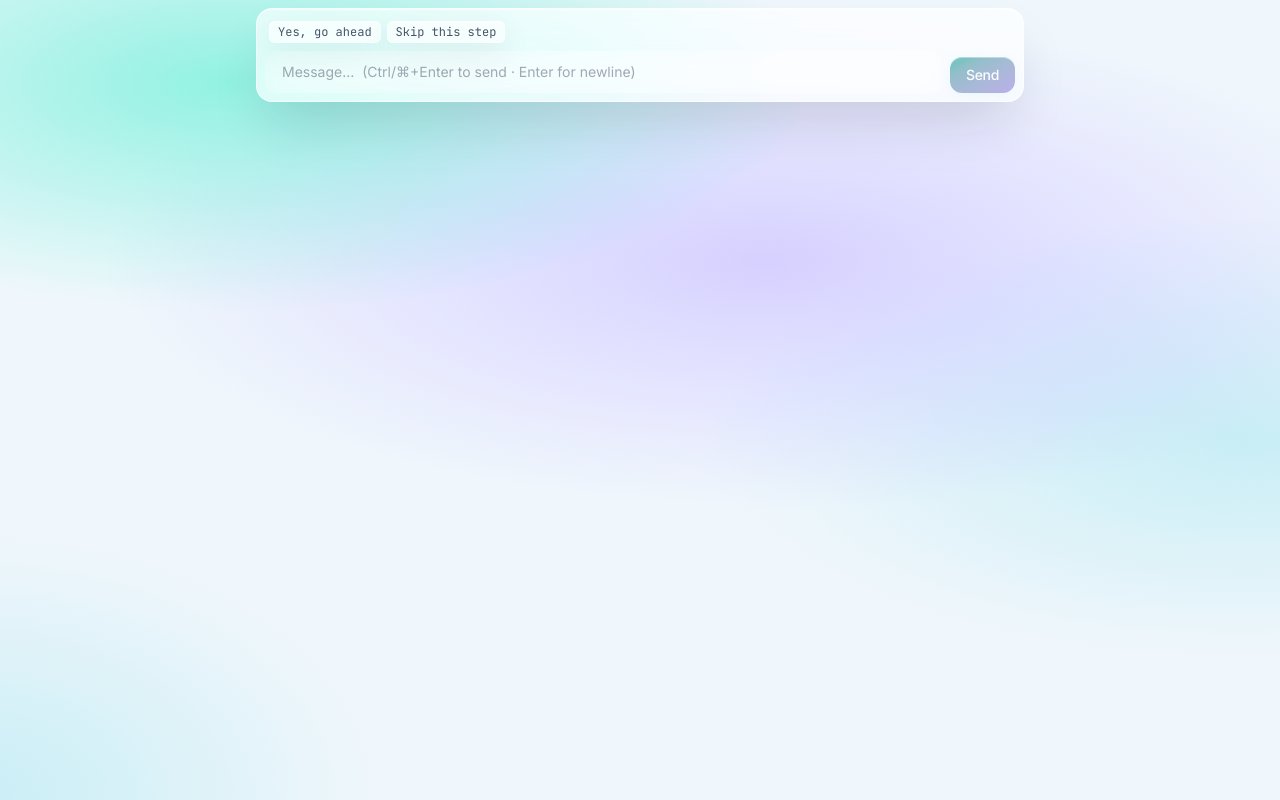
ChatInput › suggested replies › clicking a chip drafts the reply without sending it
The image size is (1280, 800).
Click the button "Skip this step": (446, 32) x1=387 y1=21 x2=505 y2=43
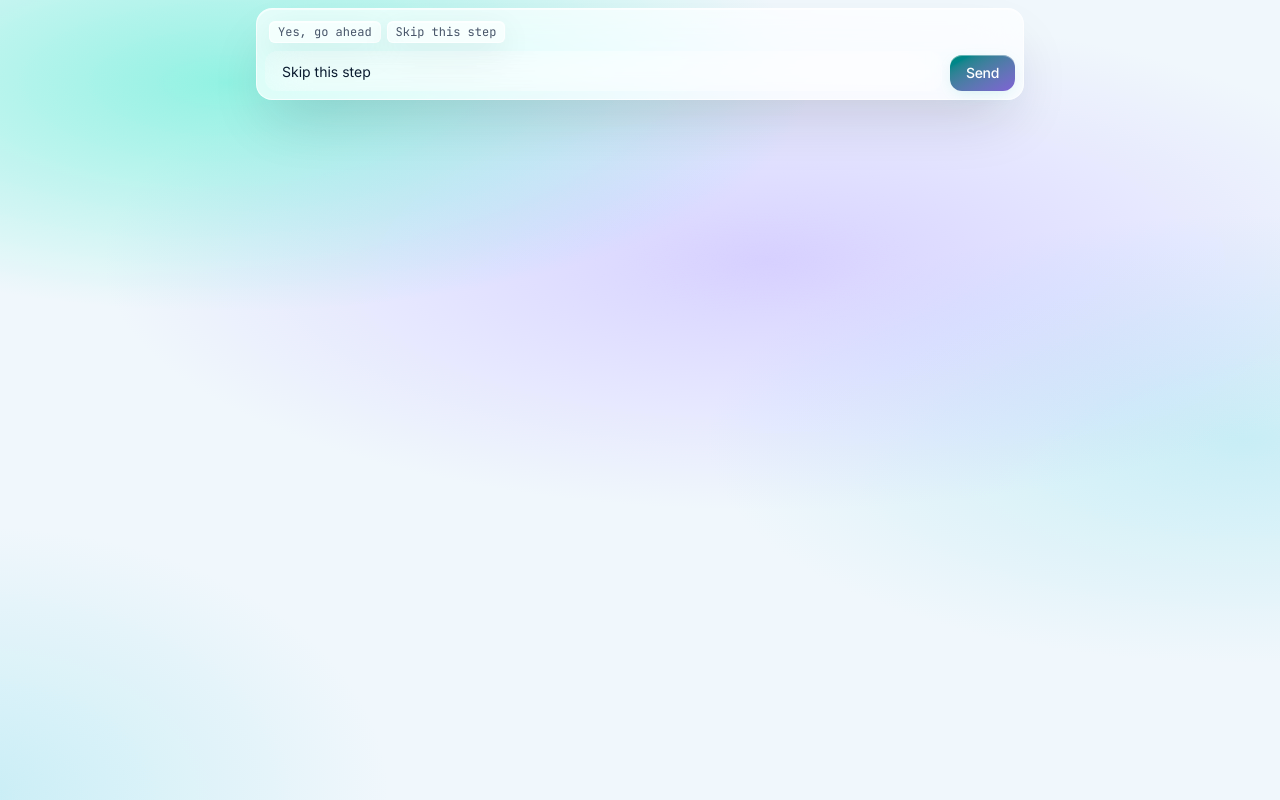
Check: the text box holds "Skip this step", box x1=265 y1=51 x2=942 y2=91
Type keys " today"
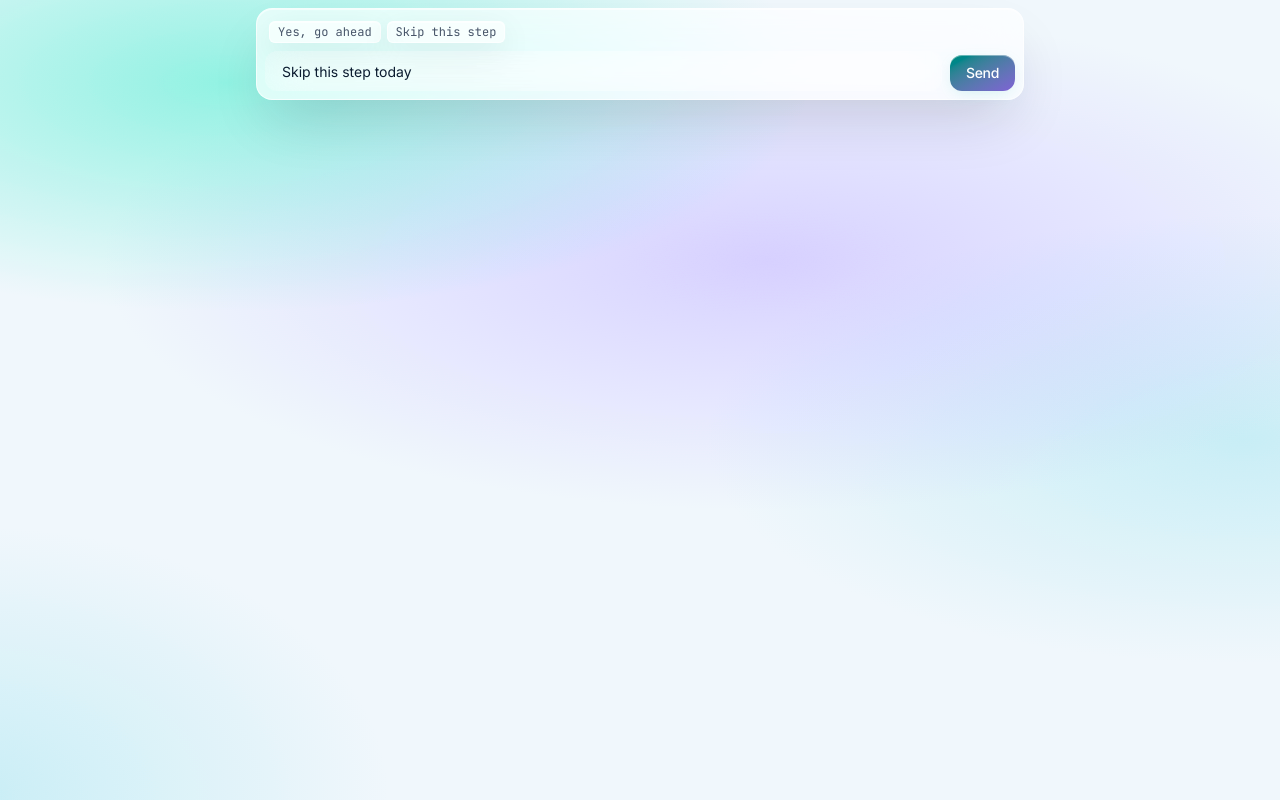
Check: the text box holds "Skip this step today", box x1=265 y1=51 x2=942 y2=91
// The row stays, so another chip can still replace the draft.
Click the button "Yes, go ahead": (325, 32) x1=269 y1=21 x2=381 y2=43
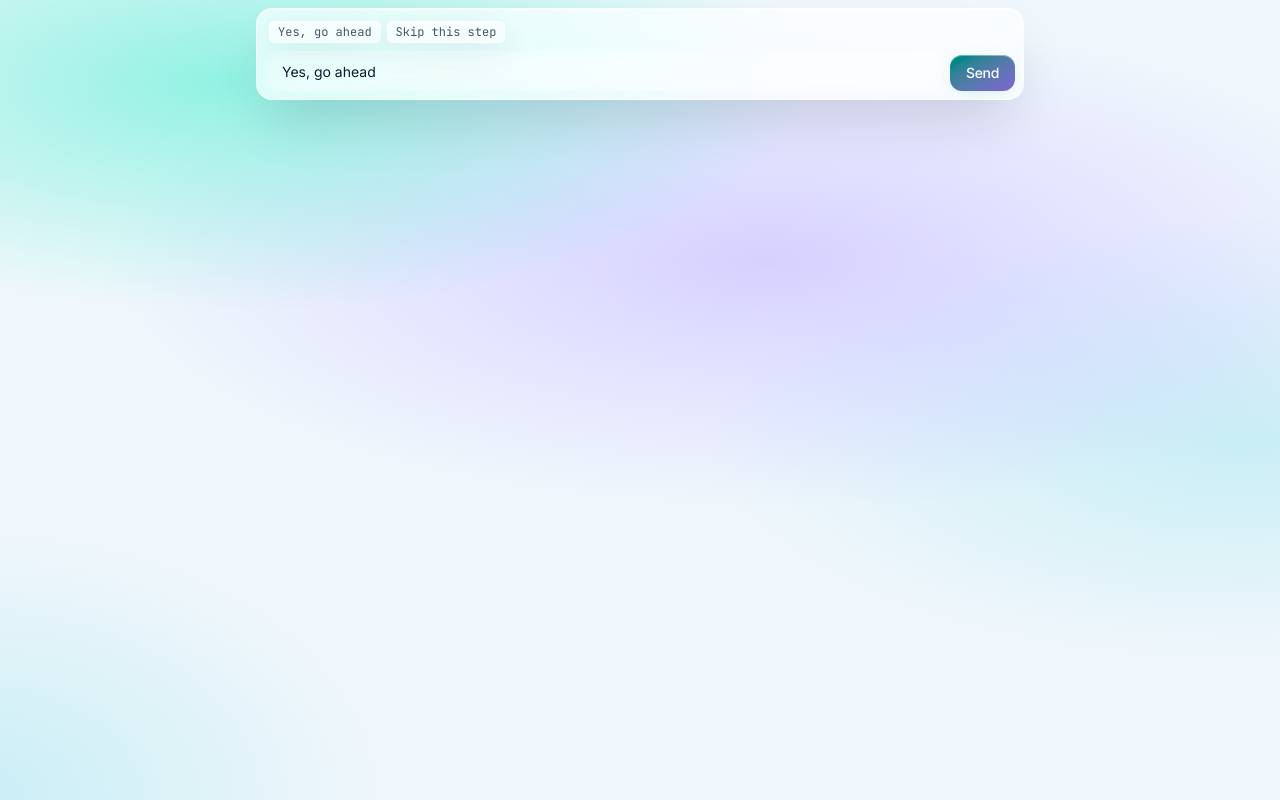
Check: the text box holds "Yes, go ahead", box x1=265 y1=51 x2=942 y2=91
